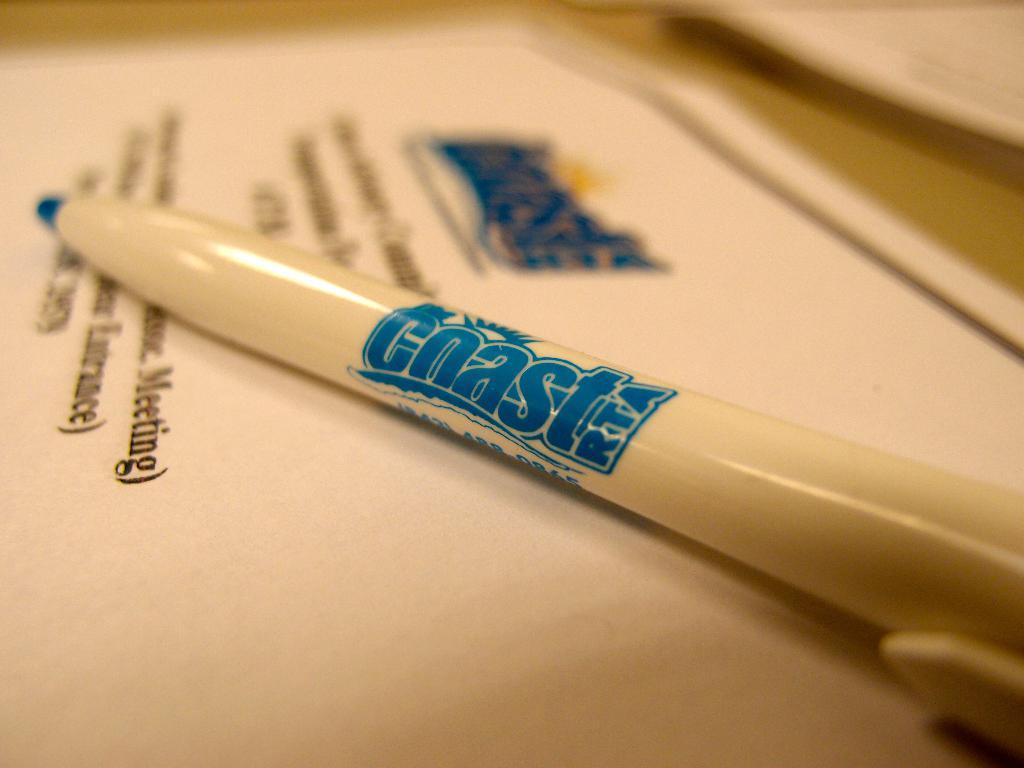pen: (33, 191, 1023, 751)
